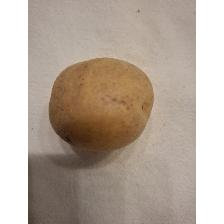Kartoffel: (46, 53, 158, 155)
